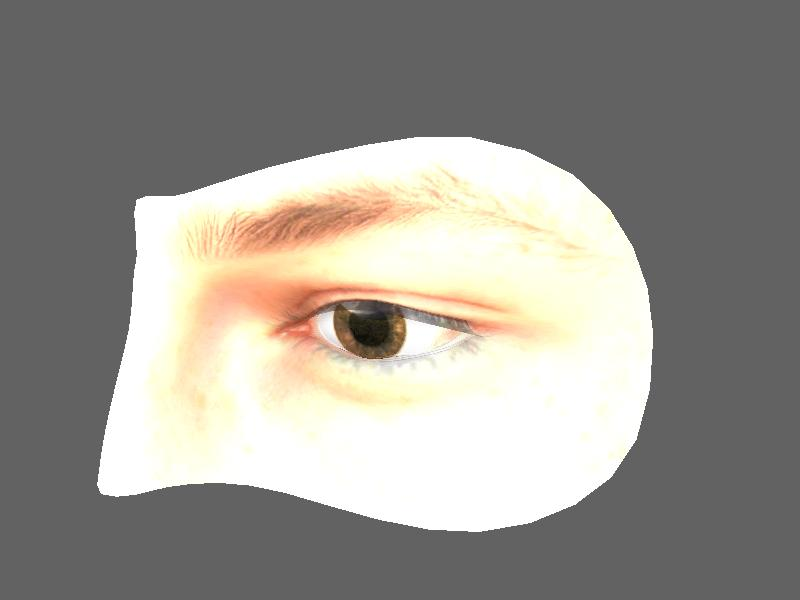iris: (336, 302, 409, 363)
